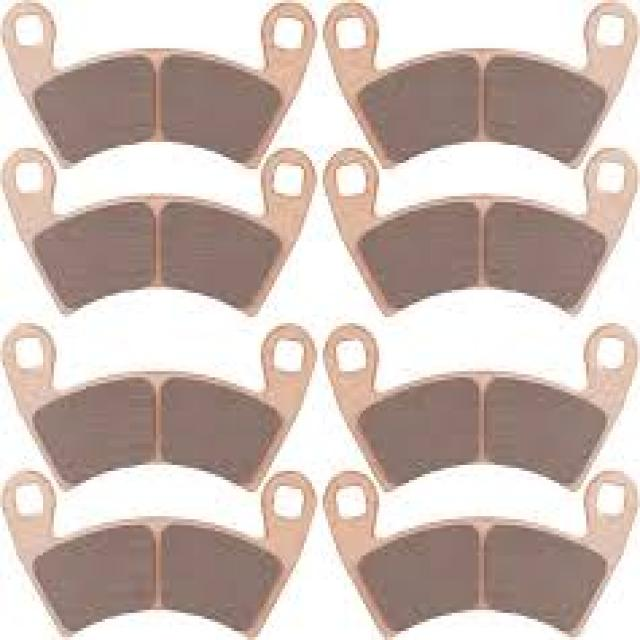brake_pad: (0, 475, 322, 640), (0, 152, 322, 314), (328, 473, 637, 640), (322, 150, 637, 312), (0, 320, 320, 477), (322, 320, 637, 468), (0, 5, 323, 148), (328, 2, 634, 145)
